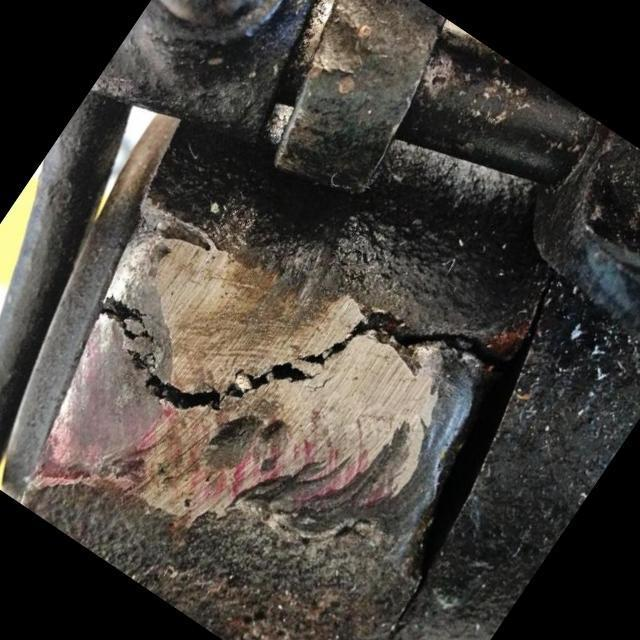defect: (78, 292, 513, 427)
